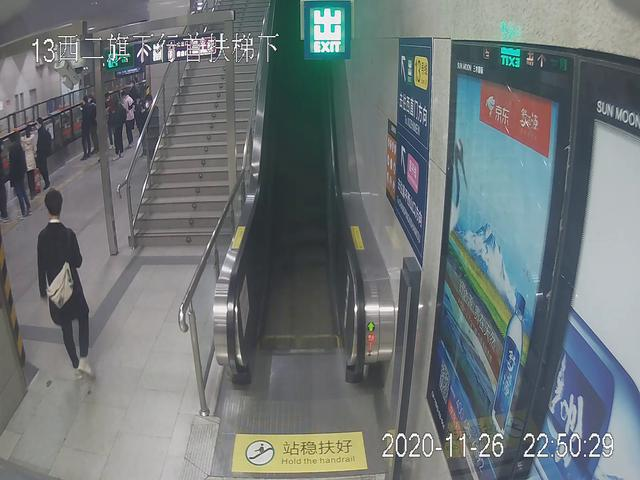person: (35, 187, 94, 381), (7, 135, 31, 217), (31, 117, 54, 188), (118, 90, 137, 149), (20, 125, 35, 197)
